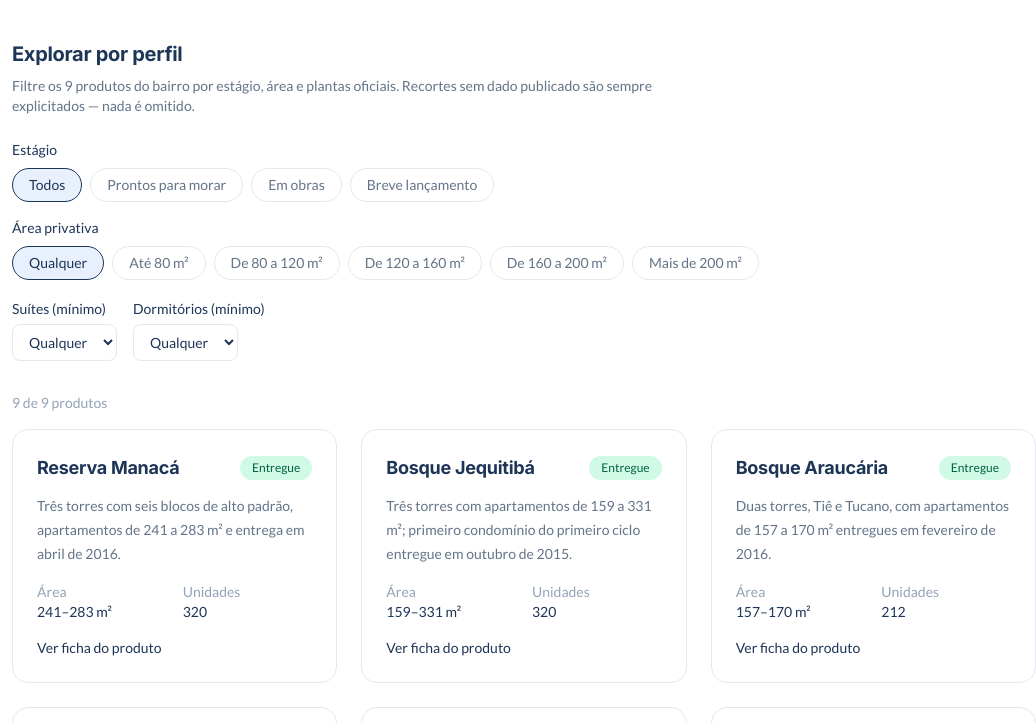
DiscoveryExplorer › empty state suggests nearest profiles and reset restores the catalog
Click the button "Até 80 m²": (159, 263) [112,246,206,280]
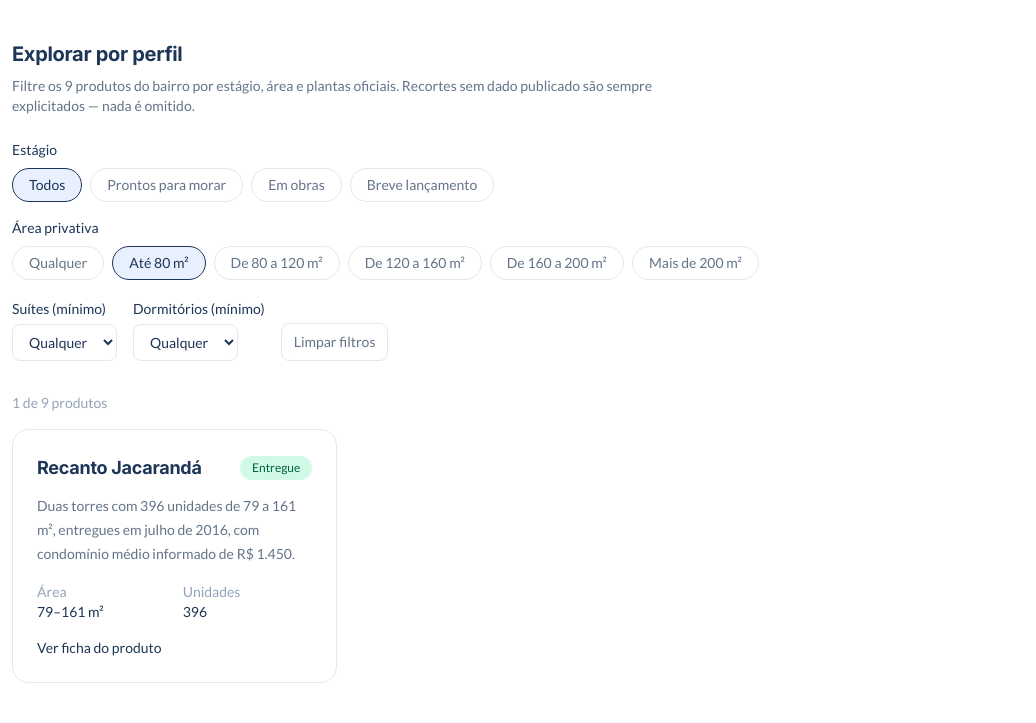
Select "2+" in the dropdown labelled "Suítes (mínimo)": (64, 342) [12,324,117,361]
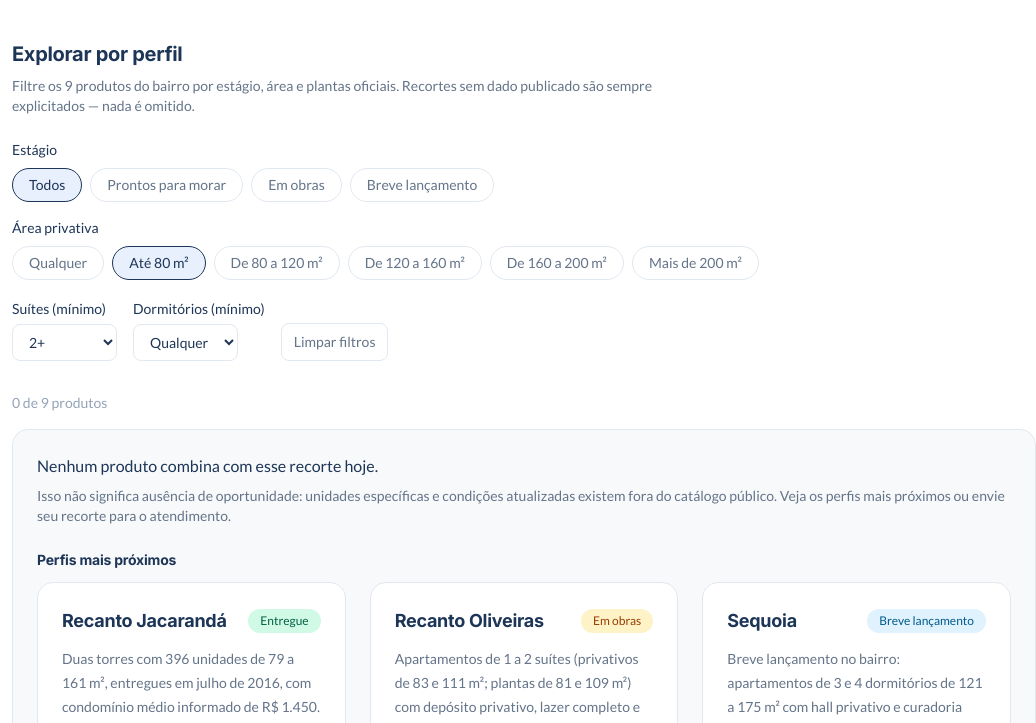
Result: the text "0 de 9 produtos" is shown at [12,394,107,411]
Result: the heading "Perfis mais próximos" is shown at [37,551,176,568]
Click the button "Limpar filtros": (335, 342) [281,323,388,361]
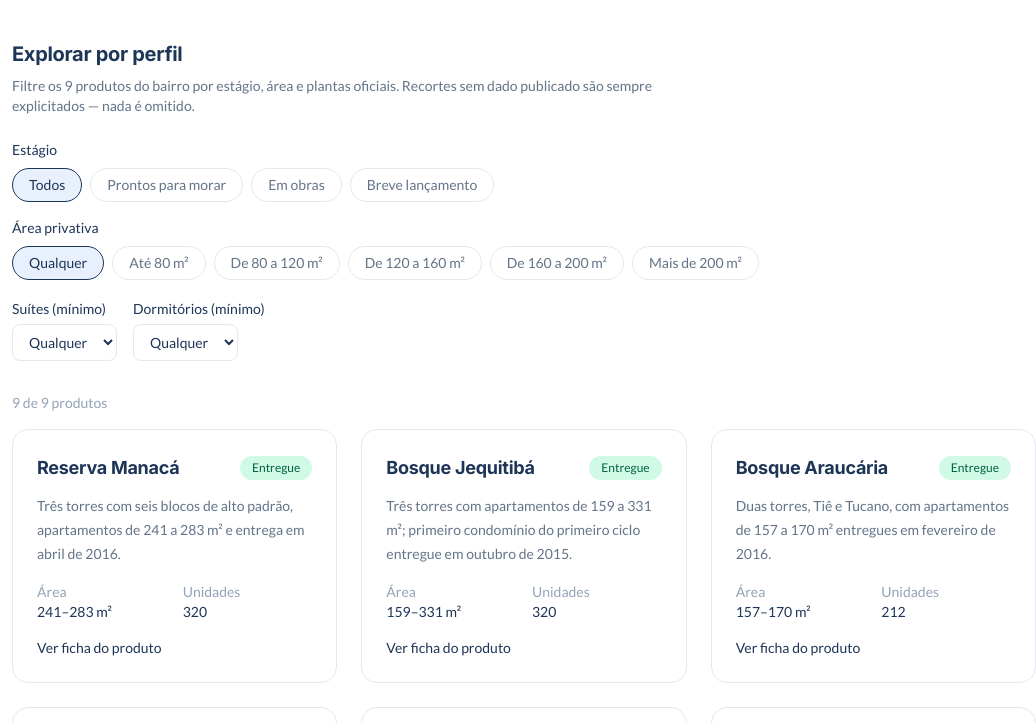
Result: the text "9 de 9 produtos" is shown at [12,394,107,411]
